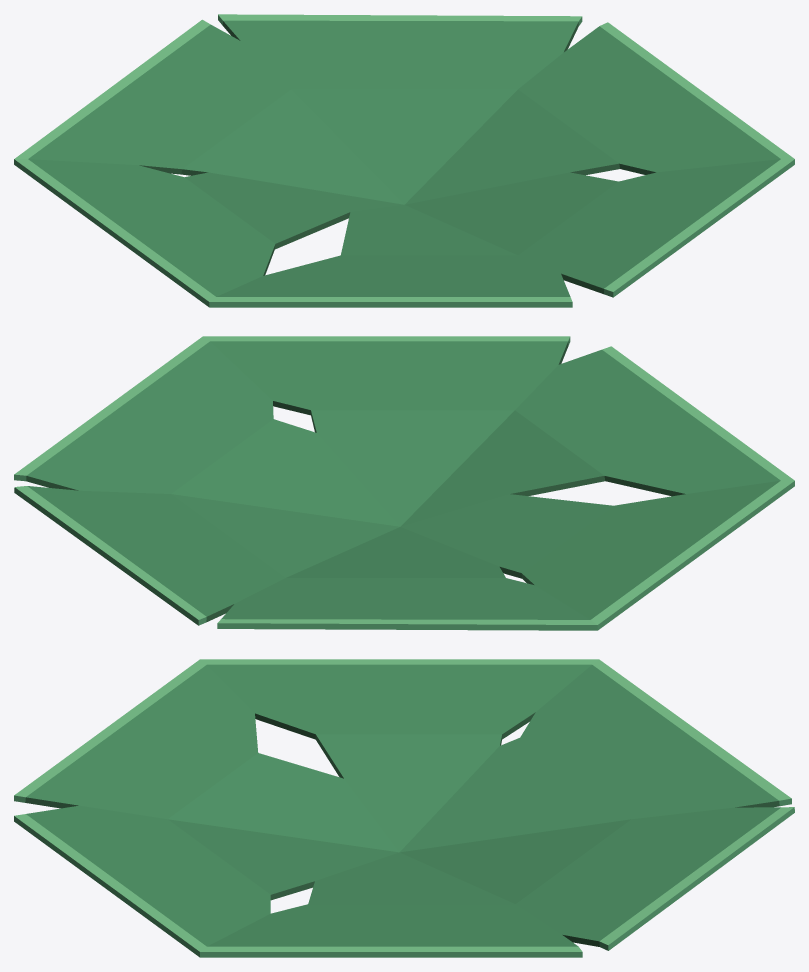
Rendered from Vegetation_01.glb.
3 renders of one model, top to bottom at view 1: azimuth 30°, elevation 25°; view 2: azimuth 150°, elevation 25°; view 3: azimuth 270°, elevation 25°, orthographic. The views are drawn at different scales.
Visible parts, largest first — view 1: Vegetation_01; view 2: Vegetation_01; view 3: Vegetation_01.
Boxes of the visible parts, box(x1,y1,x2,y2) form: Vegetation_01: box(14, 14, 794, 307); Vegetation_01: box(14, 336, 794, 630); Vegetation_01: box(14, 659, 794, 957).
Size of the model in its own units: 0.4189 by 0.0363 by 0.4728.
1 material, 1 textured.
